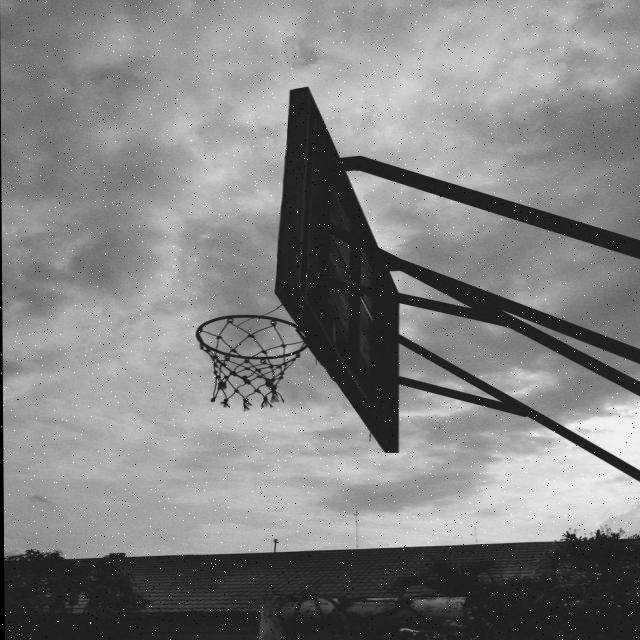hoop: (172, 292, 326, 416)
